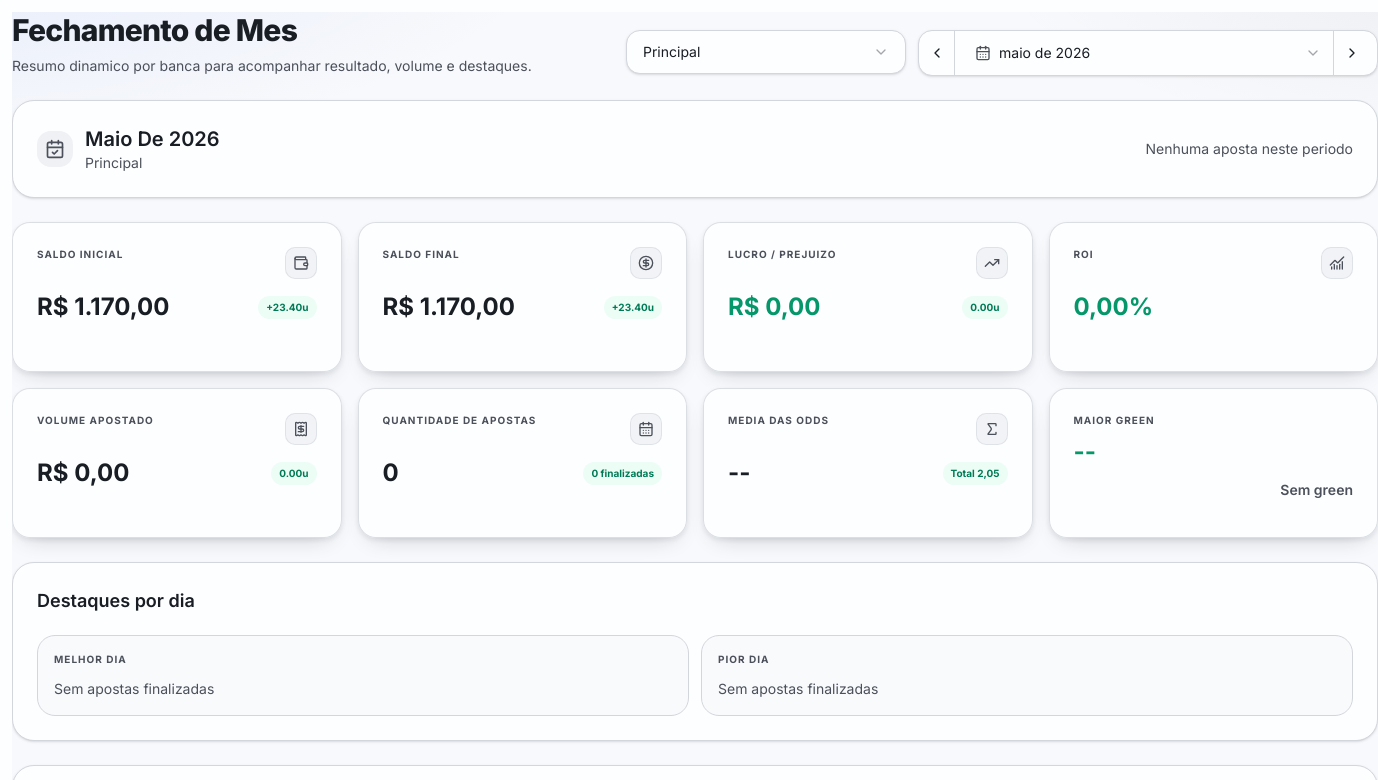
Scenario: MonthlyClosing › supports all periods option
The image size is (1378, 780).
Expected: the heading "Fechamento de Mes" is shown, [12,12,297,48]
What coordinates should you click on to do the following:
click the dropdown named "Periodo"
I would click on:
 (1045, 52)
Its box is [963,31,1333,75].
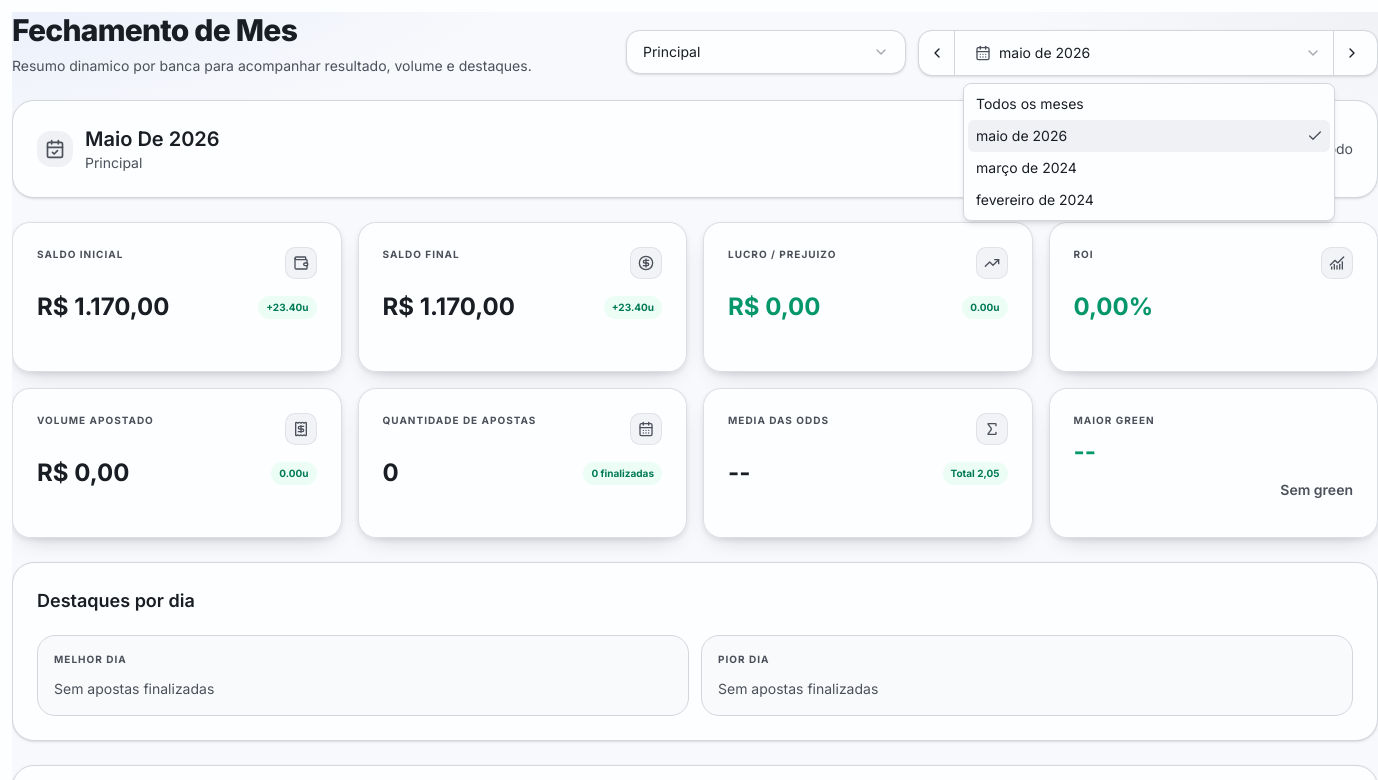
What coordinates should you click on to do the following:
click the option "Todos os meses"
I would click on:
 (1030, 104)
Its box is [976,95,1084,112].
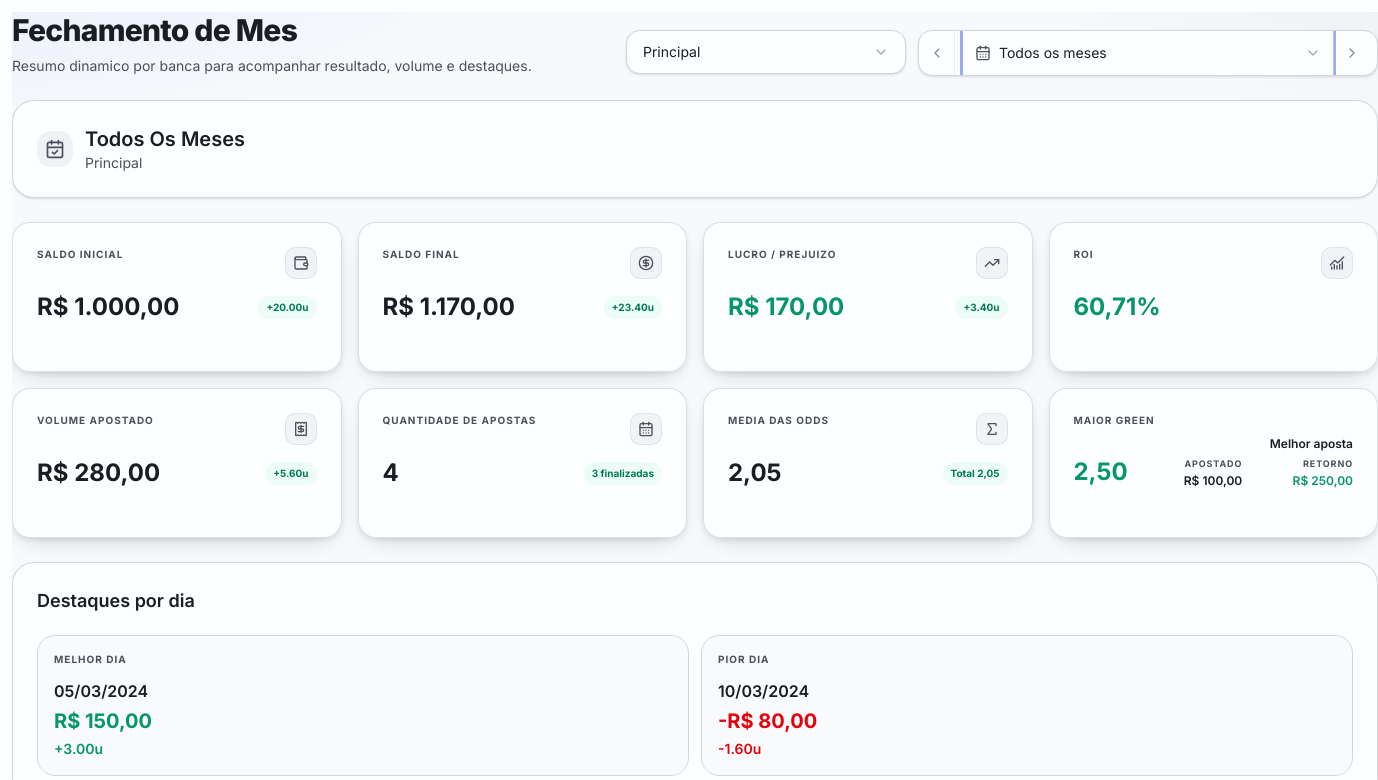
Expected: the text "Todos os meses" is shown, [999,43,1107,63]
Expected: the heading "R$ 1.000,00" is shown, [37,291,179,323]
Expected: the text "+20.00u" is shown, [258,296,316,319]
